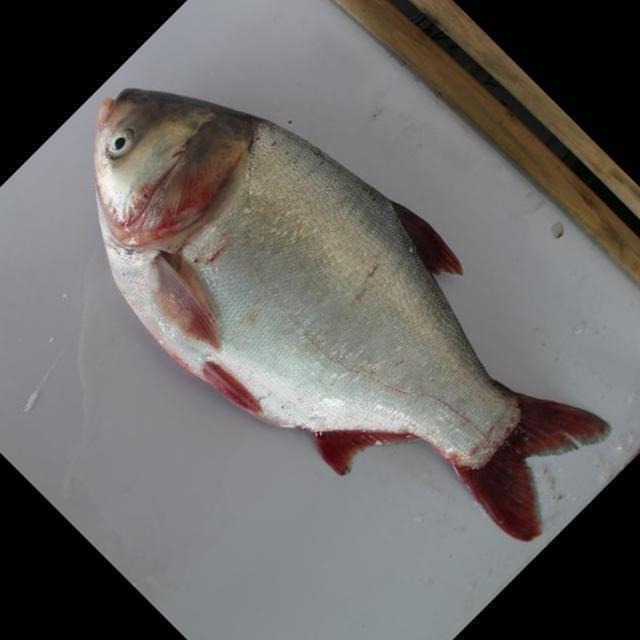SilverCarp: (93, 90, 582, 538)
